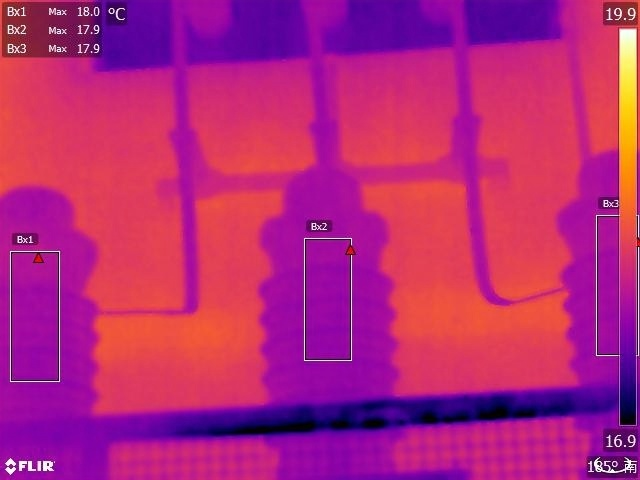tube: (240, 186, 435, 480), (1, 165, 117, 480), (552, 155, 640, 449)
